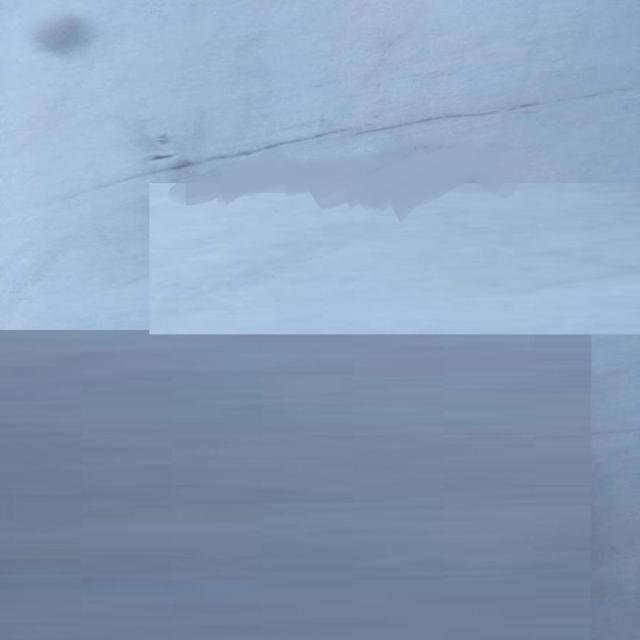crack: (90, 90, 626, 196)
